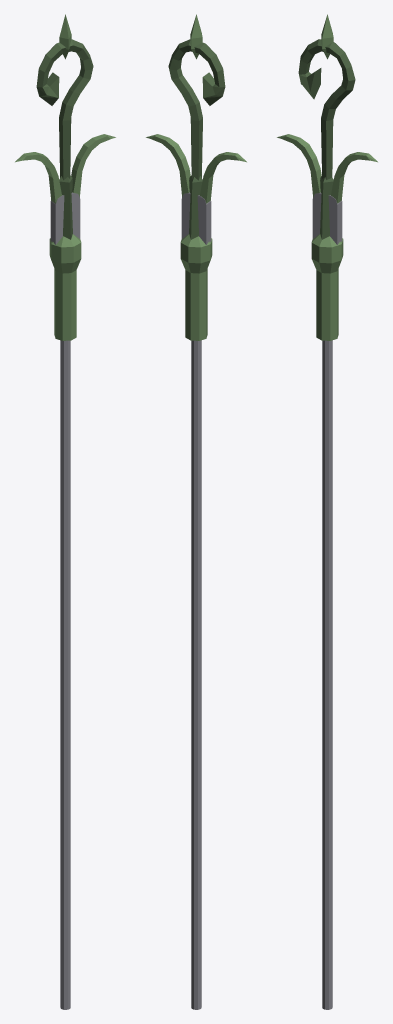
Rendered from Lanca_B15.fbx.
The picture shows the model from 3 angles, left to right: view 1: azimuth 30°, elevation 25°; view 2: azimuth 150°, elevation 25°; view 3: azimuth 330°, elevation 25°; orthographic projection.
Parts seen in each view (by area): view 1: polearm_15; view 2: polearm_15; view 3: polearm_15.
Part boxes in pixels (x1=…): polearm_15: x1=15, y1=14, x2=115, y2=1009; polearm_15: x1=146, y1=14, x2=246, y2=1009; polearm_15: x1=277, y1=14, x2=377, y2=1009.
Bounding box in the file's own units: 22.2 × 206 × 6.19.
